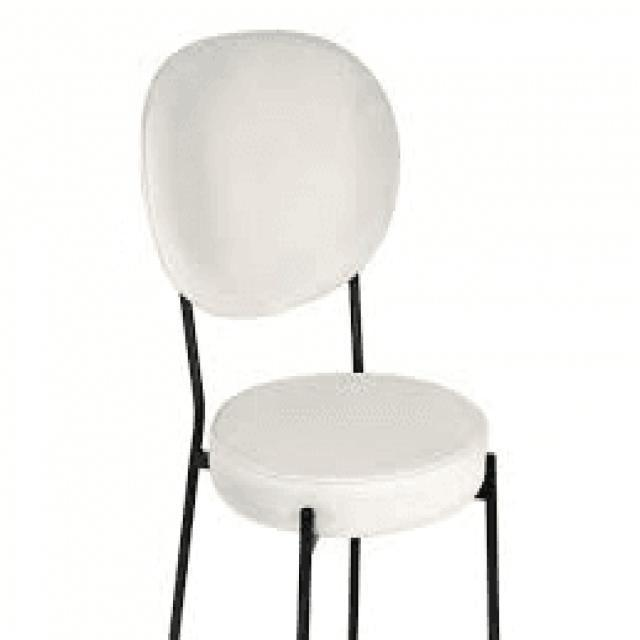chair: (136, 22, 502, 640), (143, 24, 490, 534)
